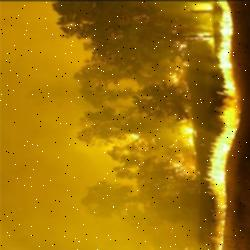fire: (200, 0, 250, 248), (167, 100, 199, 177)
